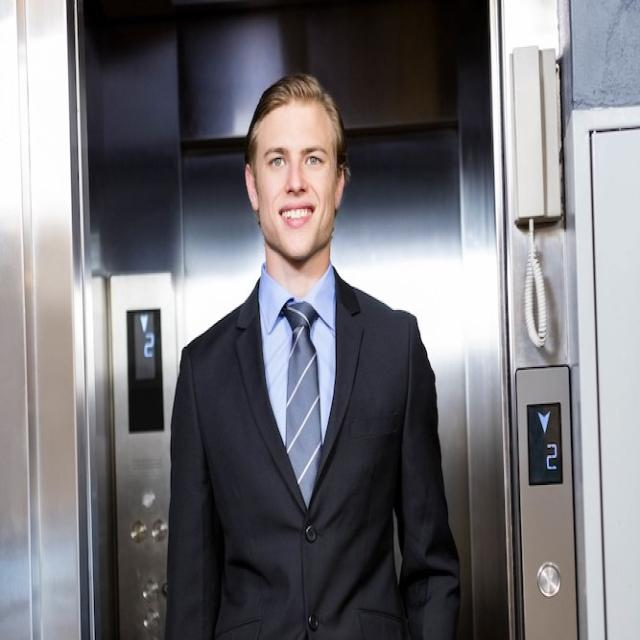human: (163, 70, 467, 639)
